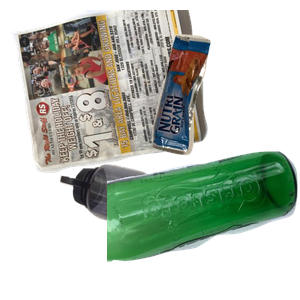glass: (107, 149, 300, 300)
paper: (10, 10, 210, 175)
plastic: (58, 162, 261, 300)
trash: (149, 31, 300, 179)
